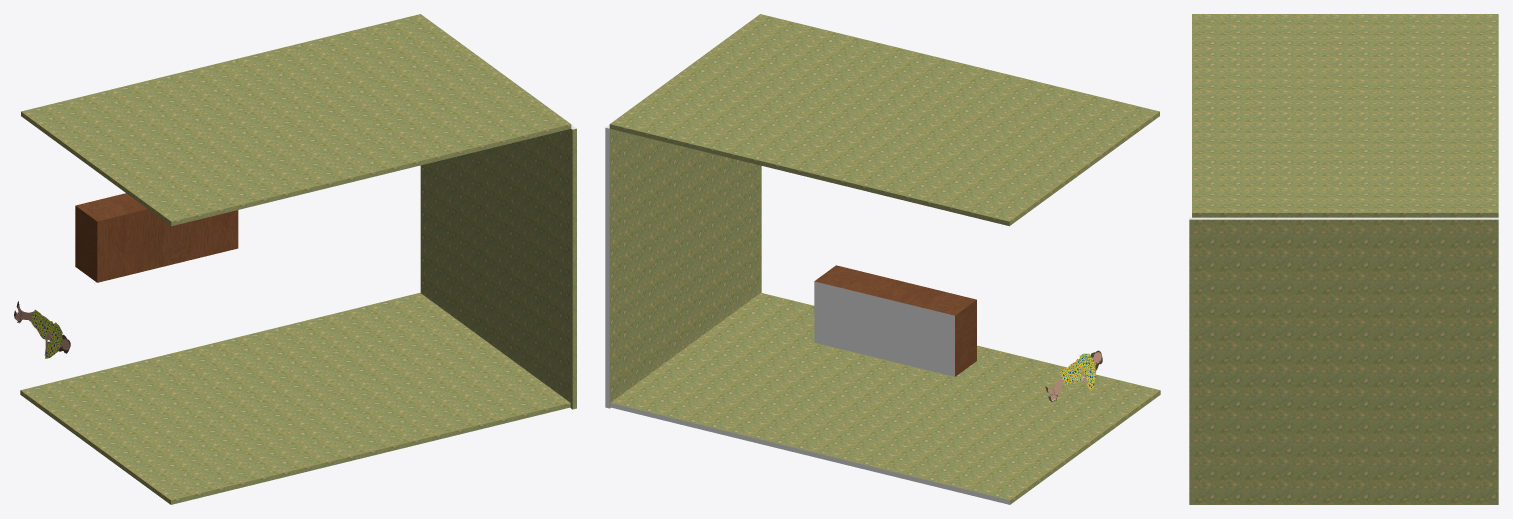
File: courtroom.glb
3 renders of one model, left to right at view 1: azimuth 30°, elevation 25°; view 2: azimuth 150°, elevation 25°; view 3: azimuth 270°, elevation 25°, orthographic.
Visible parts, largest first — view 1: Mootcourt Sample w_ Texture; view 2: Mootcourt Sample w_ Texture; view 3: Mootcourt Sample w_ Texture.
Part boxes in pixels (left/top/right/bottom): Mootcourt Sample w_ Texture: left=14, top=14, right=576, bottom=504; Mootcourt Sample w_ Texture: left=605, top=14, right=1160, bottom=504; Mootcourt Sample w_ Texture: left=1189, top=14, right=1498, bottom=504.
Size of the model in its own units: 17.25 by 10.83 by 10.48.
Materials: 10 (2 with a texture image).
